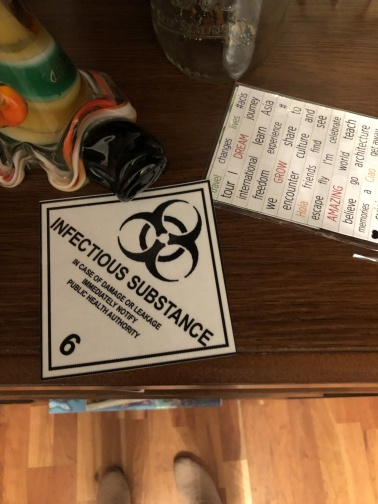InfectiousSubstance: (37, 181, 236, 379)
